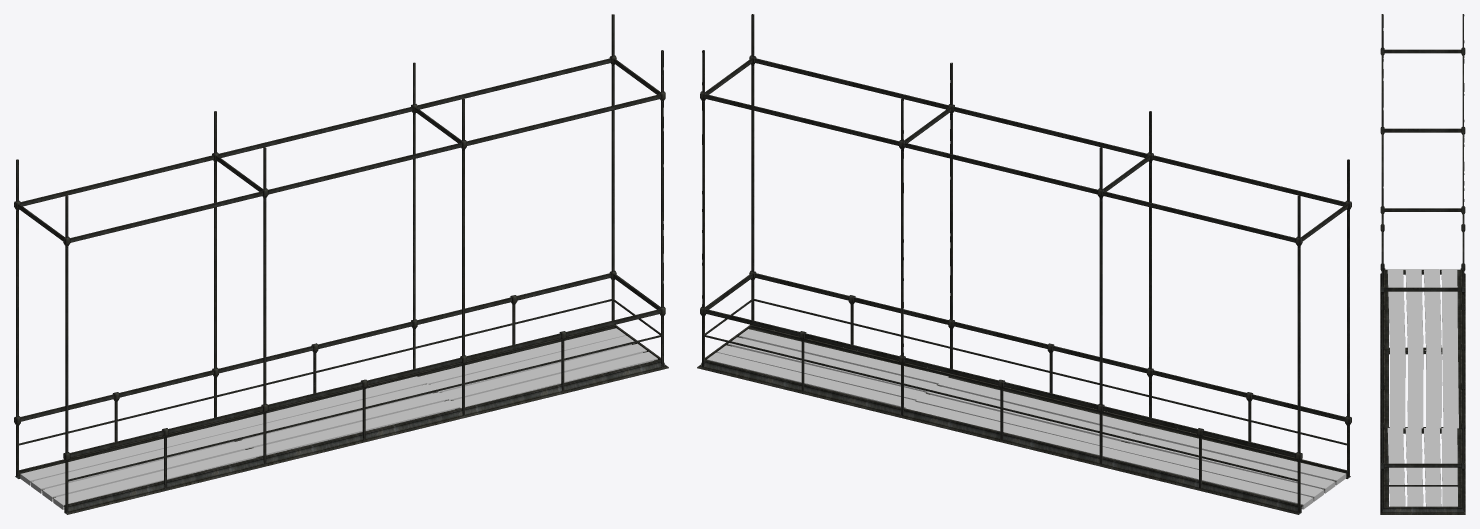
The model's file is tesla_structure_catwalk_02_cap.dae.
The picture shows the model from 3 angles, left to right: view 1: azimuth 30°, elevation 25°; view 2: azimuth 150°, elevation 25°; view 3: azimuth 270°, elevation 25°; orthographic projection. The views are drawn at different scales.
Visible parts, largest first — view 1: polySurface112, polySurface113; view 2: polySurface112, polySurface113; view 3: polySurface113, polySurface112.
Boxes of the visible parts, bbox=[...] form: polySurface112: bbox=[14, 14, 668, 514]; polySurface113: bbox=[20, 328, 657, 509]; polySurface112: bbox=[697, 14, 1351, 514]; polySurface113: bbox=[707, 329, 1346, 509]; polySurface113: bbox=[1387, 269, 1458, 506]; polySurface112: bbox=[1380, 14, 1465, 514].
Bounding box in the file's own units: 15.17 × 7.64 × 2.26.
